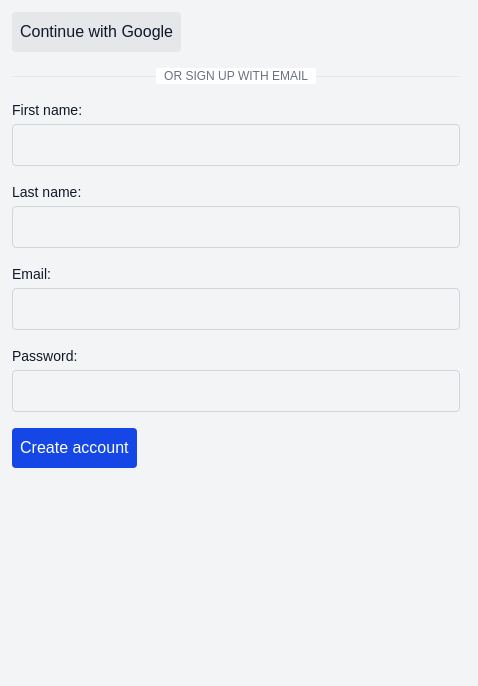
SignUpForm › validation › shows required errors when submitting an empty form
Click the button "Create account": click(74, 448) [12,428,136,468]
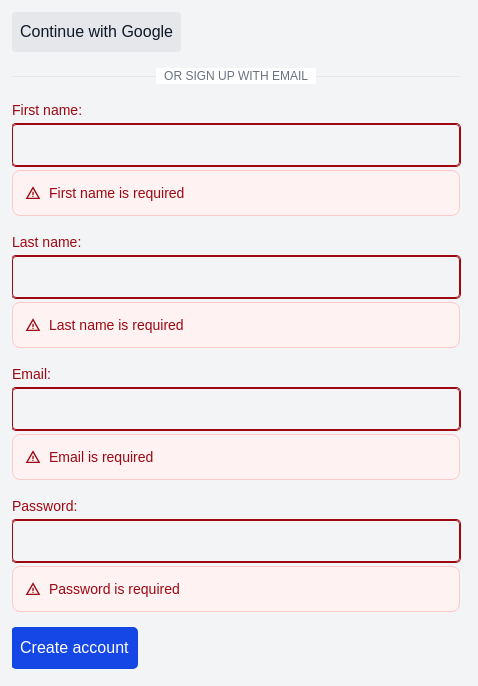
Expected: the text "First name is required" is shown, [25,185,184,201]
Expected: the text "Last name is required" is shown, [25,317,184,333]
Expected: the text "Email is required" is shown, [25,449,153,465]
